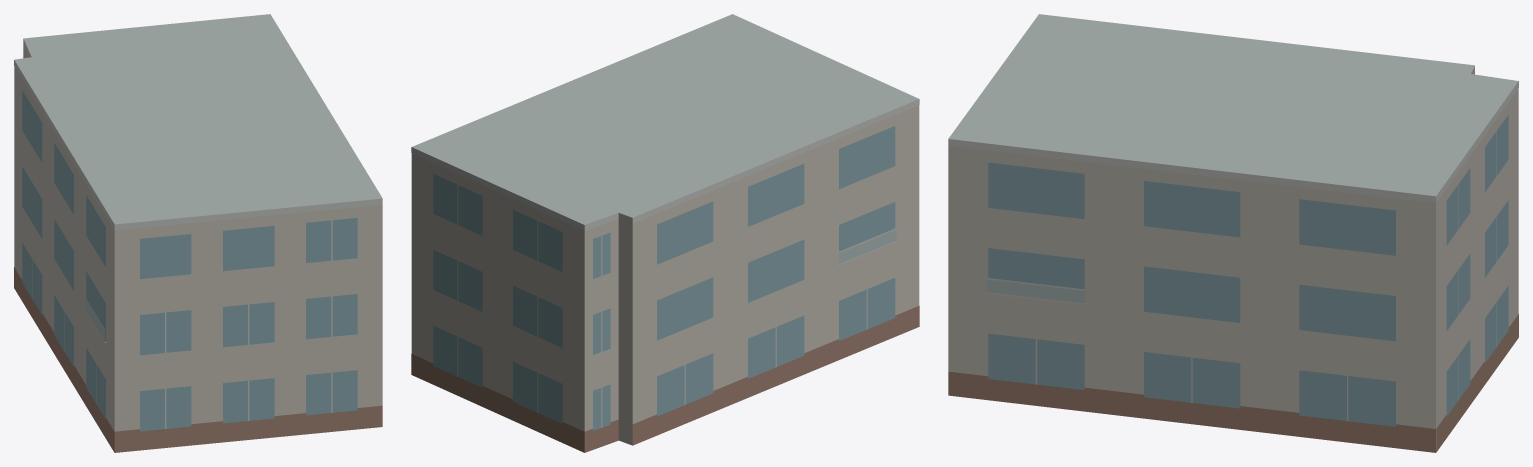
Rendered from survey-upis-33037562.glb.
The picture shows the model from 3 angles, left to right: view 1: azimuth 30°, elevation 25°; view 2: azimuth 150°, elevation 25°; view 3: azimuth 270°, elevation 25°; orthographic projection. The views are drawn at different scales.
Parts seen in each view (by area): view 1: survey-upis-33037562.tmp; view 2: survey-upis-33037562.tmp; view 3: survey-upis-33037562.tmp.
Part boxes in pixels (x1=…): survey-upis-33037562.tmp: x1=14, y1=14, x2=382, y2=452; survey-upis-33037562.tmp: x1=411, y1=14, x2=919, y2=452; survey-upis-33037562.tmp: x1=948, y1=14, x2=1518, y2=452.
Size of the model in its own units: 13.95 by 9.15 by 18.45.
